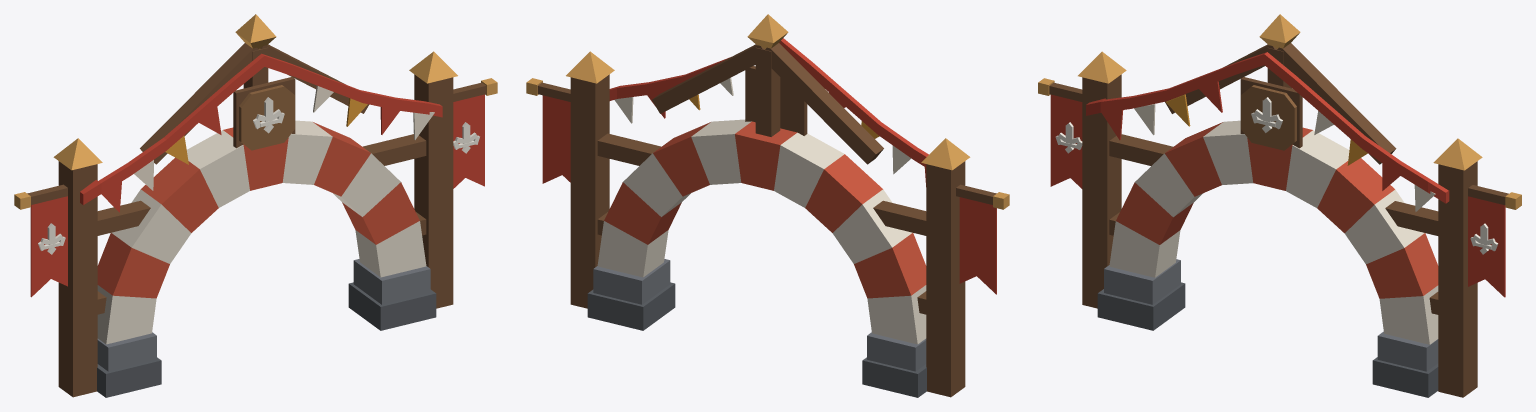
The model's file is festival arch.fbx.
3 renders of one model, left to right at view 1: azimuth 30°, elevation 25°; view 2: azimuth 150°, elevation 25°; view 3: azimuth 330°, elevation 25°, orthographic.
Visible parts, largest first — view 1: Arch_Shield_Crest_CenterSpear; view 2: Arch_Shield_Crest_CenterSpear; view 3: Arch_Shield_Crest_CenterSpear.
Part boxes in pixels (x1,y1,x2,y2): Arch_Shield_Crest_CenterSpear: (14,14,497,397); Arch_Shield_Crest_CenterSpear: (526,14,1009,397); Arch_Shield_Crest_CenterSpear: (1038,14,1521,397).
Size of the model in its own units: 730 by 485 by 85.
